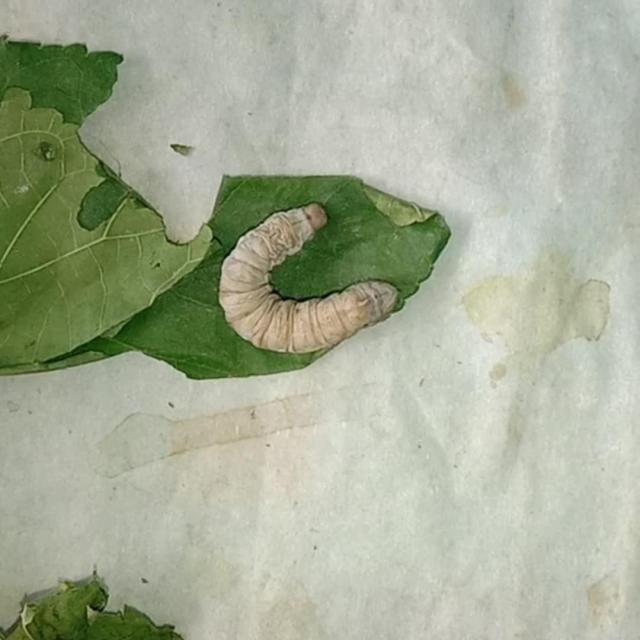Grasserie: (209, 193, 410, 364)
